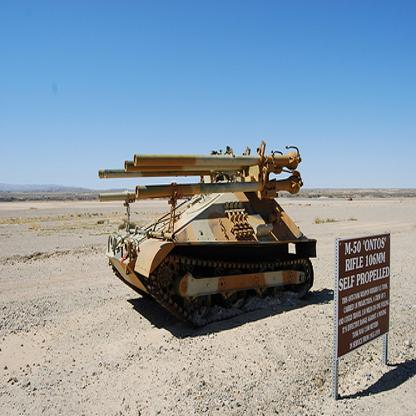Tank: (90, 140, 325, 329)
